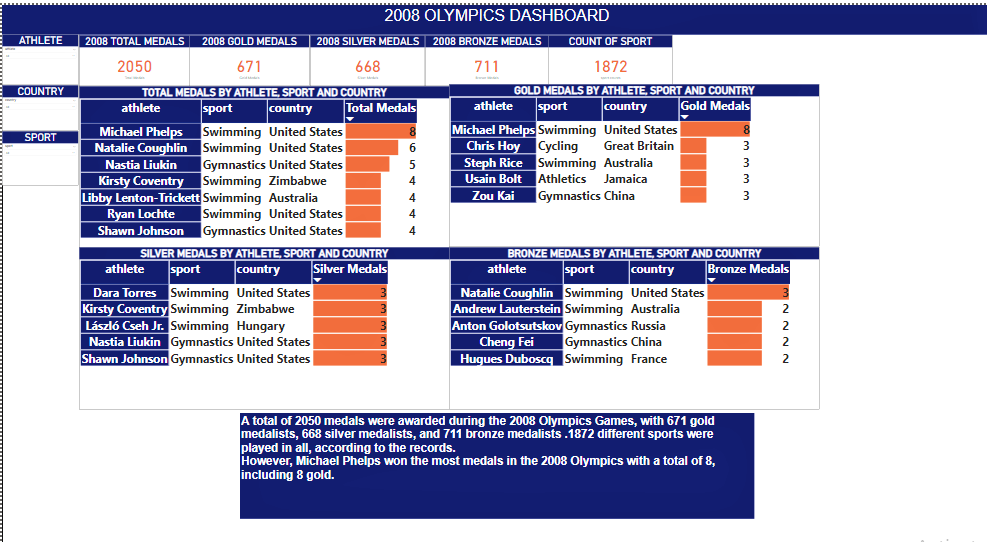

Layout of this report page (visuals, bound fields, positions):
{"tool":"powerbi","page":{"name":"2008 OLYMPICS REPORT","canvas":[4500,2500],"ordinal":4},"visuals":[{"type":"textbox","box":[0,0,4500,135.5],"z":0},{"type":"slicer","title":"ATHLETE","fields":{"Values":["2008 olympics.athlete"]},"box":[0,130.6,348.4,232.3],"z":1000},{"type":"slicer","title":"COUNTRY","fields":{"Values":["2008 olympics.country"]},"box":[0,362.9,348.4,208.1],"z":2000},{"type":"slicer","title":"SPORT","fields":{"Values":["2008 olympics.sport"]},"box":[0,571,348.4,246.8],"z":3000},{"type":"card","title":"2008 TOTAL MEDALS","fields":{"Values":["Sum(2008 olympics.Total Medals)"]},"box":[348.4,135.5,503.2,232.3],"z":4000},{"type":"card","title":"2008 GOLD MEDALS","fields":{"Values":["Sum(2008 olympics.Gold Medals)"]},"box":[851.6,135.5,546.8,232.3],"z":5000},{"type":"card","title":"2008 SILVER MEDALS","fields":{"Values":["Sum(2008 olympics.Silver Medals)"]},"box":[1398.4,135.5,522.6,232.3],"z":6000},{"type":"card","title":"2008 BRONZE MEDALS","fields":{"Values":["Sum(2008 olympics.Bronze Medals)"]},"box":[1921,135.5,561.3,232.3],"z":7000},{"type":"card","title":"COUNT OF SPORT","fields":{"Values":["2008 olympics.sport counts"]},"box":[2482.3,135.5,566.1,232.3],"z":8000},{"type":"tableEx","title":"TOTAL MEDALS BY ATHLETE, SPORT AND COUNTRY","fields":{"Values":["2008 olympics.athlete","2008 olympics.sport","2008 olympics.country","Sum(2008 olympics.Total Medals)"]},"box":[348.4,366.1,1683.1,738.2],"z":9000},{"type":"tableEx","title":"GOLD MEDALS BY ATHLETE, SPORT AND COUNTRY","fields":{"Values":["2008 olympics.athlete","2008 olympics.sport","2008 olympics.country","Sum(2008 olympics.Gold Medals)"]},"box":[2031.5,360.2,1683.1,738.2],"z":10000},{"type":"tableEx","title":"SILVER MEDALS BY ATHLETE, SPORT AND COUNTRY","fields":{"Values":["2008 olympics.athlete","2008 olympics.sport","2008 olympics.country","Sum(2008 olympics.Silver Medals)"]},"box":[348.4,1098.4,1683.1,738.2],"z":11000},{"type":"tableEx","title":"BRONZE MEDALS BY ATHLETE, SPORT AND COUNTRY","fields":{"Values":["2008 olympics.athlete","2008 olympics.sport","2008 olympics.country","Sum(2008 olympics.Bronze Medals)"]},"box":[2032.7,1098,1683.3,739.6],"z":11001},{"type":"textbox","box":[1081.2,1856.2,2337.5,481.2],"z":11002}]}

Visuals, with their boxes in screenshot pixels (x1, y1, x2, y2), scaled from the page's 4500x2500 canvas onto the 987x542 screenshot:
textbox: [x1=0, y1=0, x2=986, y2=29]
"ATHLETE" slicer: [x1=0, y1=28, x2=76, y2=79]
"COUNTRY" slicer: [x1=0, y1=79, x2=76, y2=124]
"SPORT" slicer: [x1=0, y1=124, x2=76, y2=177]
"2008 TOTAL MEDALS" card: [x1=76, y1=29, x2=187, y2=80]
"2008 GOLD MEDALS" card: [x1=187, y1=29, x2=307, y2=80]
"2008 SILVER MEDALS" card: [x1=307, y1=29, x2=421, y2=80]
"2008 BRONZE MEDALS" card: [x1=421, y1=29, x2=544, y2=80]
"COUNT OF SPORT" card: [x1=544, y1=29, x2=669, y2=80]
"TOTAL MEDALS BY ATHLETE, SPORT AND COUNTRY" tableEx: [x1=76, y1=79, x2=446, y2=239]
"GOLD MEDALS BY ATHLETE, SPORT AND COUNTRY" tableEx: [x1=446, y1=78, x2=815, y2=238]
"SILVER MEDALS BY ATHLETE, SPORT AND COUNTRY" tableEx: [x1=76, y1=238, x2=446, y2=398]
"BRONZE MEDALS BY ATHLETE, SPORT AND COUNTRY" tableEx: [x1=446, y1=238, x2=815, y2=398]
textbox: [x1=237, y1=402, x2=750, y2=507]
